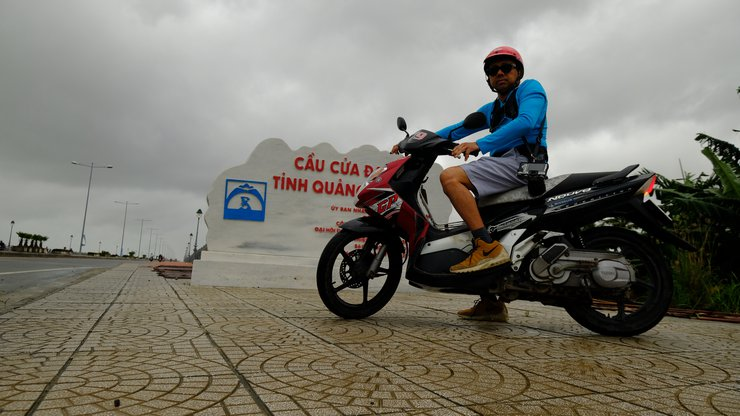helmet: (483, 43, 528, 79)
motorcycle: (309, 111, 686, 339)
